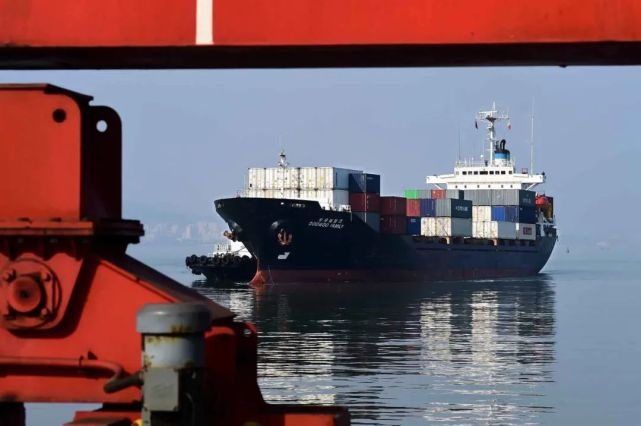airplane: (212, 106, 563, 296)
otherboat: (180, 228, 260, 283)
